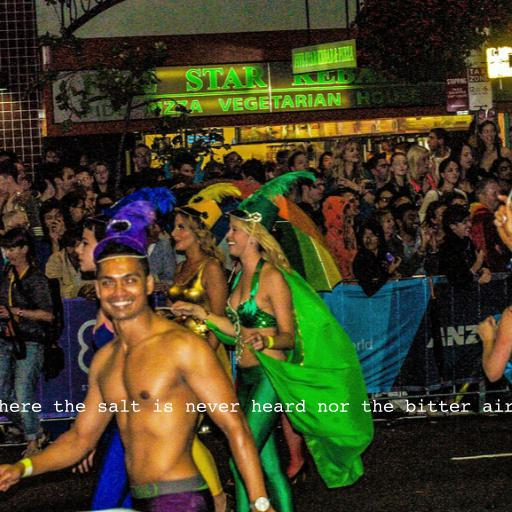Courier: (0, 399, 512, 413)
